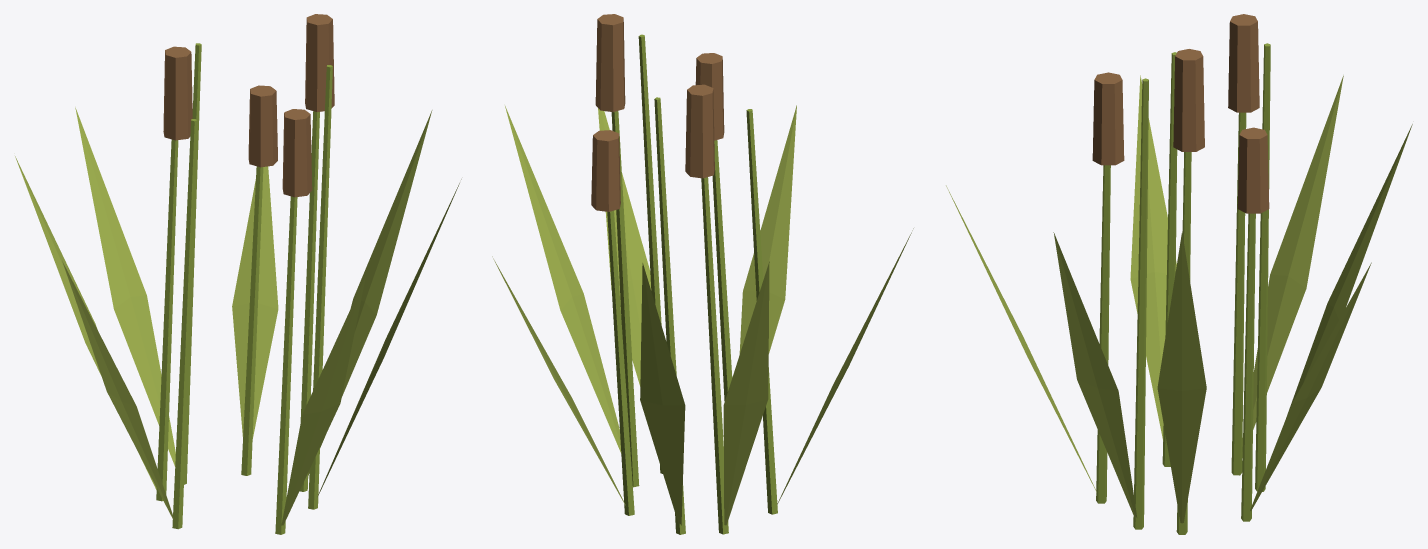
File: Reeds.fbx
3 views of the same model, side by side, from view 1: azimuth 30°, elevation 25°; view 2: azimuth 150°, elevation 25°; view 3: azimuth 270°, elevation 25° (orthographic). The views are drawn at different scales.
Visible parts, largest first — view 1: Reeds; view 2: Reeds; view 3: Reeds.
Part boxes in pixels (x1,y1,x2,y2): Reeds: (15,14,461,534); Reeds: (492,14,913,534); Reeds: (946,14,1412,534).
Size of the model in its own units: 135 by 153 by 133.
